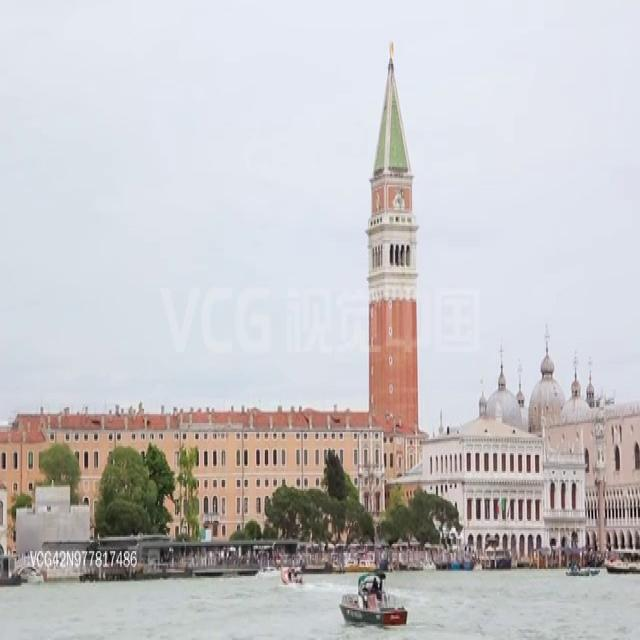houseboat: (339, 570, 406, 628), (602, 542, 640, 574), (566, 559, 600, 580), (281, 561, 302, 583)
